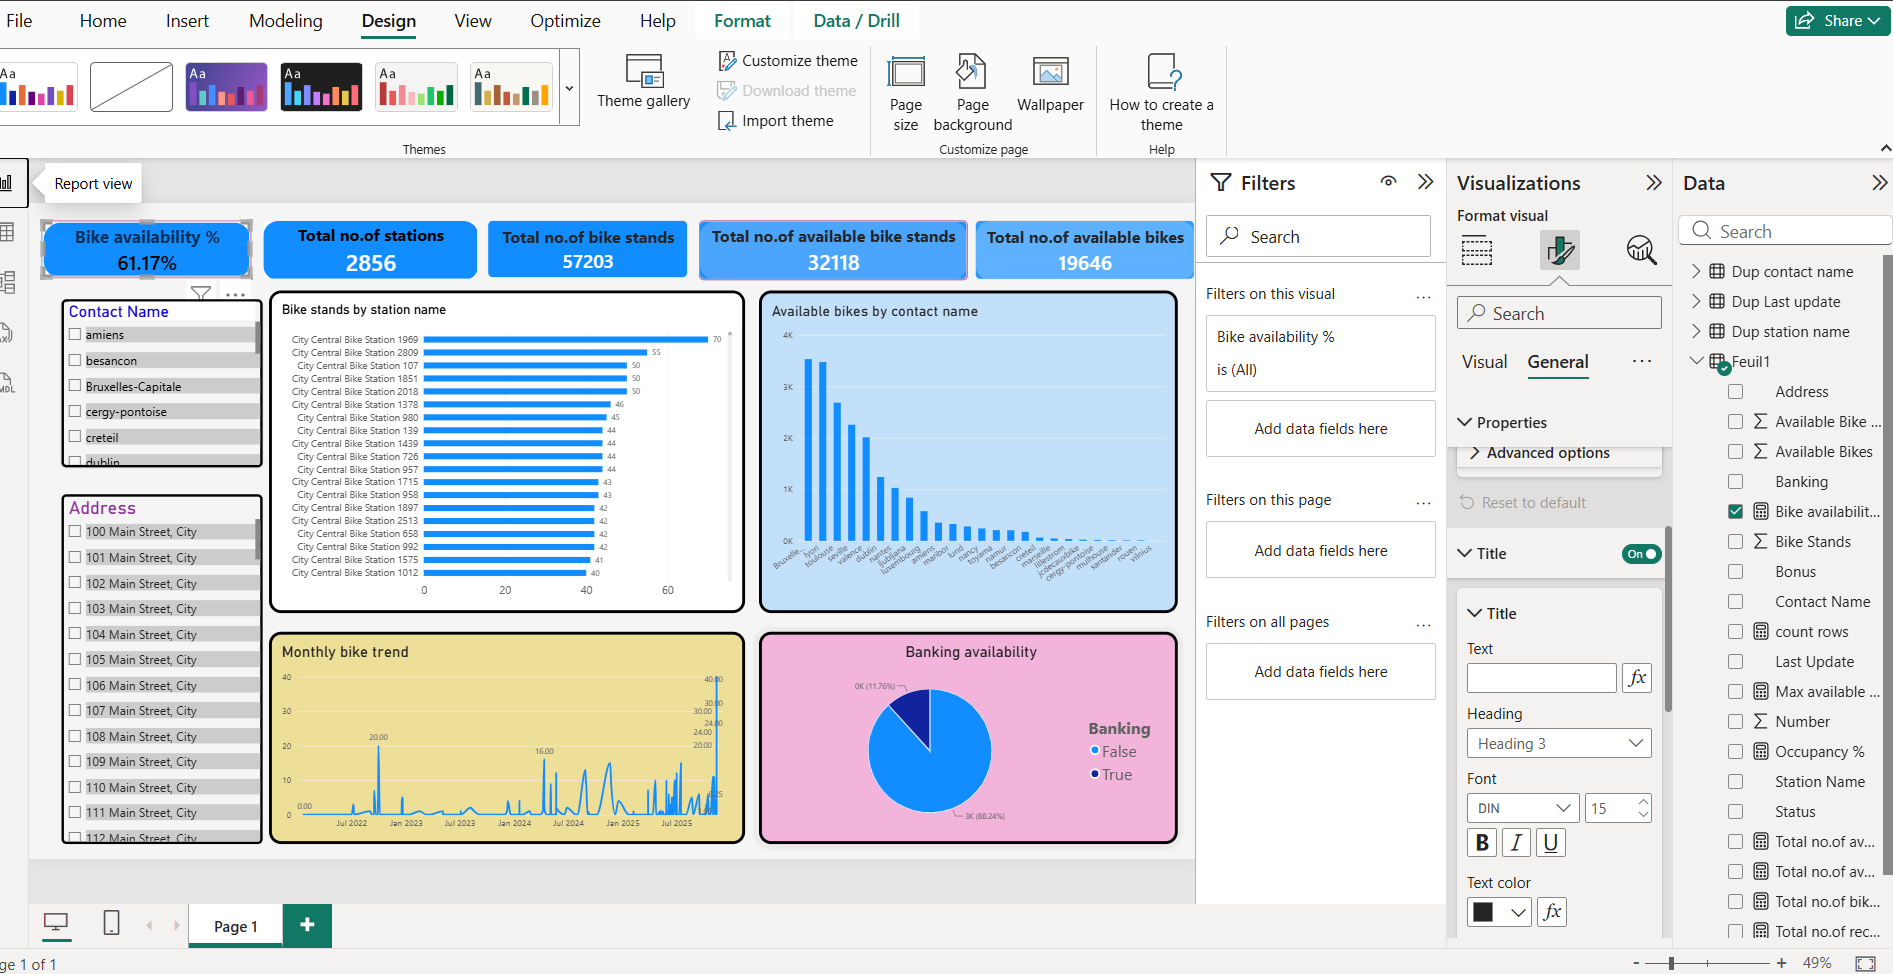

Layout of this report page (visuals, bound fields, positions):
{"tool":"powerbi","page":{"name":"Dshboard","canvas":[1920,1080],"ordinal":0},"visuals":[{"type":"cardVisual","fields":{"Data":["Feuil1.Total no.of stations"]},"box":[385.5,29,354.1,97.6],"z":1},{"type":"cardVisual","fields":{"Data":["Feuil1.Total no.of available bike stands"]},"box":[1103.3,28.8,442.5,98.8],"z":2},{"type":"cardVisual","fields":{"Data":["Feuil1.Total no.of available bikes"]},"box":[1558.1,29,361.8,97.6],"z":3},{"type":"cardVisual","fields":{"Data":["Feuil1.Bike availability %"]},"box":[20.6,28.8,345.8,94.7],"z":4},{"type":"clusteredColumnChart","title":"Available bikes by contact name","fields":{"Category":["Feuil1.Contact Name"],"Y":["Sum(Feuil1.Available Bikes)"]},"box":[1202.1,144.1,689.5,531],"z":5},{"type":"clusteredBarChart","title":"Bike stands by station name","fields":{"Category":["Feuil1.Station Name"],"Y":["Sum(Feuil1.Bike Stands)"]},"box":[395.2,144.1,784.2,531],"z":6},{"type":"pieChart","title":"Banking availability","fields":{"Category":["Feuil1.Banking"],"Y":["Feuil1.count rows"]},"box":[1202.1,706,689.5,349.9],"z":7},{"type":"lineChart","title":"Monthly bike trend","fields":{"Category":["Feuil1.Last Update"],"Y":["Avg(Feuil1.Available Bikes)"]},"box":[395.2,706,784.2,349.9],"z":8},{"type":"slicer","fields":{"Values":["Feuil1.Contact Name"]},"box":[54.3,159.3,331.2,276.9],"z":9},{"type":"cardVisual","fields":{"Data":["Feuil1.Total no.of bike stands"]},"box":[755.4,28.8,329.3,94.7],"z":10},{"type":"slicer","fields":{"Values":["Feuil1.Address"]},"box":[53.5,479.6,331.4,576.3],"z":11}]}

Visuals, with their boxes on the page's 1920x1080 design canvas (x1, y1, x2, y2). These are canvas units, not pixel positions in the 1893x974 screenshot, which may show the page scaled, cropped or inside an application window:
cardVisual - Feuil1.Total no.of stations: region(386, 29, 740, 127)
cardVisual - Feuil1.Total no.of available bike stands: region(1103, 29, 1546, 128)
cardVisual - Feuil1.Total no.of available bikes: region(1558, 29, 1920, 127)
cardVisual - Feuil1.Bike availability %: region(21, 29, 366, 124)
"Available bikes by contact name" clusteredColumnChart: region(1202, 144, 1892, 675)
"Bike stands by station name" clusteredBarChart: region(395, 144, 1179, 675)
"Banking availability" pieChart: region(1202, 706, 1892, 1056)
"Monthly bike trend" lineChart: region(395, 706, 1179, 1056)
slicer - Feuil1.Contact Name: region(54, 159, 386, 436)
cardVisual - Feuil1.Total no.of bike stands: region(755, 29, 1085, 124)
slicer - Feuil1.Address: region(54, 480, 385, 1056)
